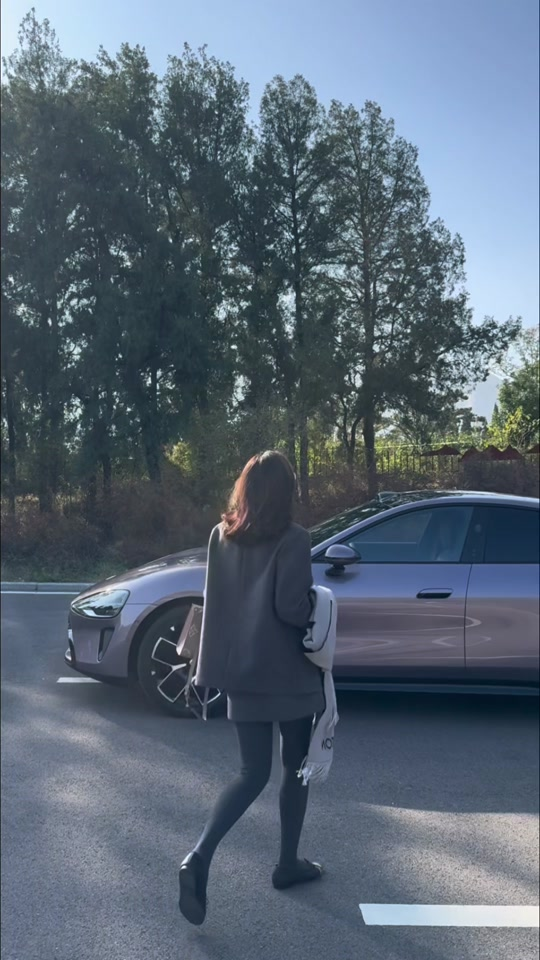su7: (78, 477, 540, 704)
